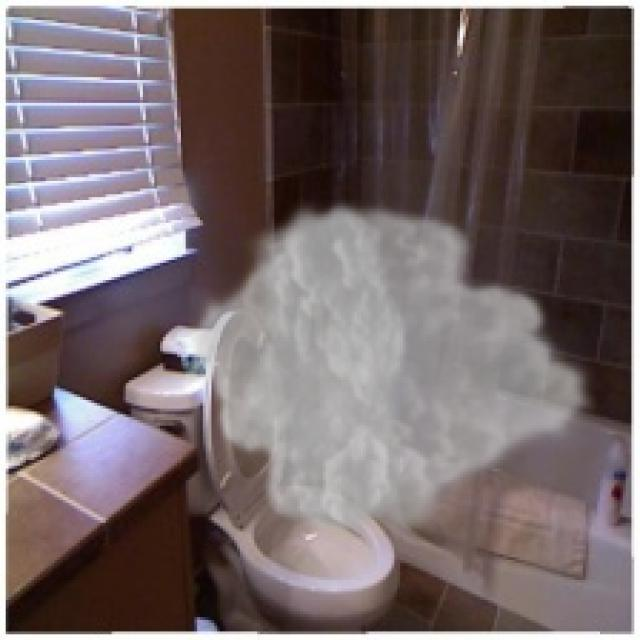Smoke: (185, 194, 598, 543)
